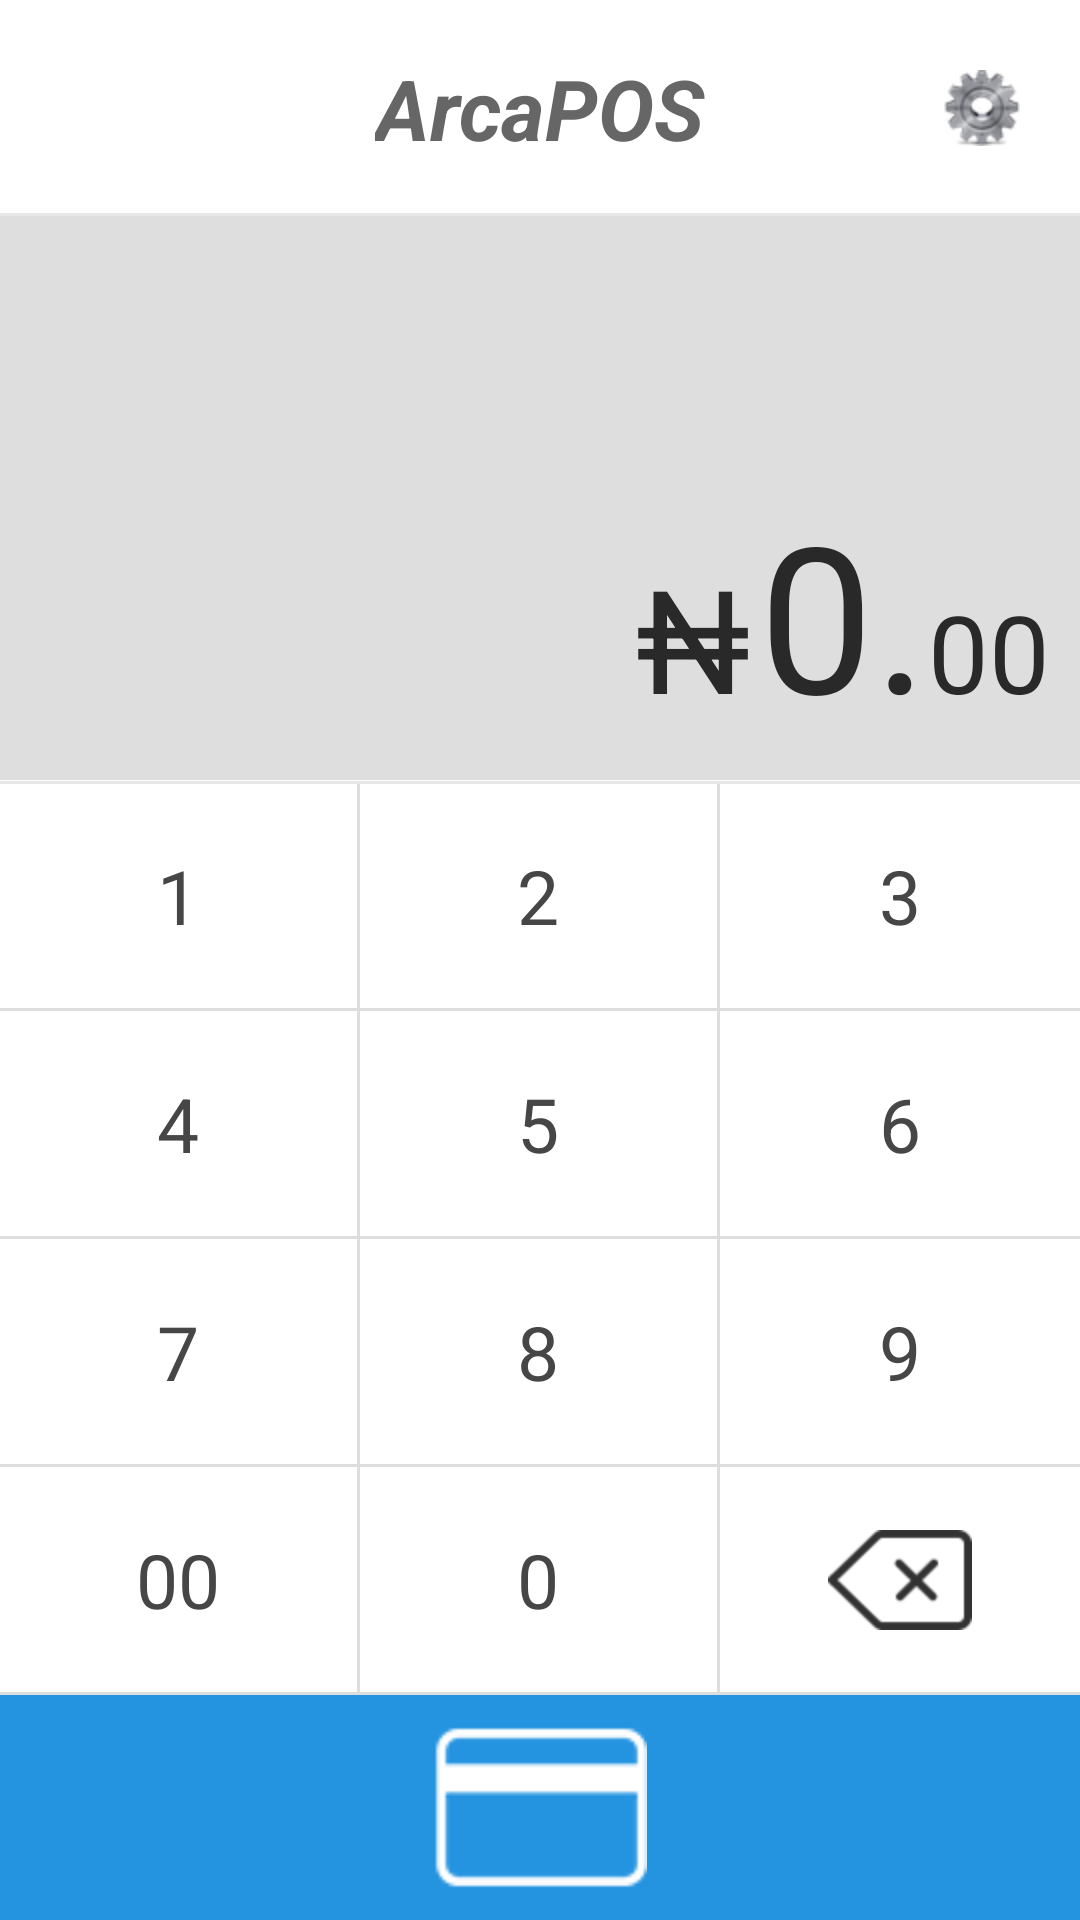

Point at icon controls on the screen. Image size 1080*1920, points as point (x, y).
delete: point (900, 1580)
settings: point (982, 108)
